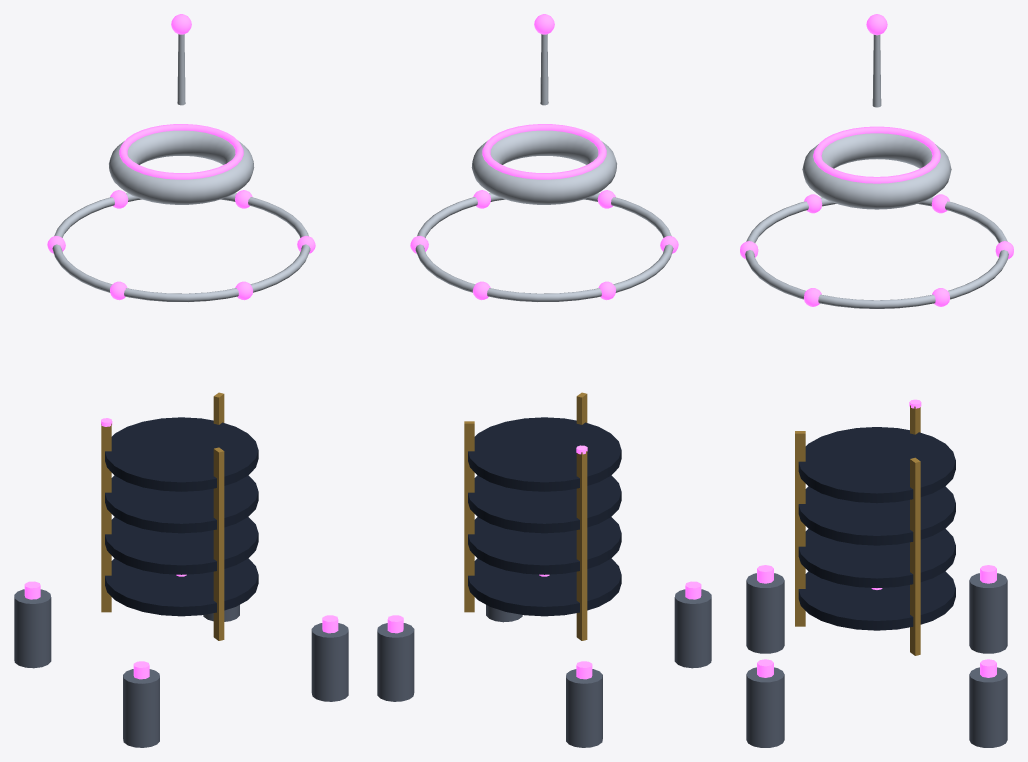
Rendered from tower_arc_damage_s7.glb.
The picture shows the model from 3 angles, left to right: view 1: azimuth 30°, elevation 25°; view 2: azimuth 150°, elevation 25°; view 3: azimuth 270°, elevation 25°; orthographic projection. The views are drawn at different scales.
Parts seen in each view (by area): view 1: arc_insulator_sleeve3, arc_toroid_b, arc_insulator_sleeve2, arc_insulator_sleeve1, arc_insulator_sleeve0, arc_electrode_ring, arc_shock_cap0, arc_shock_cap2, arc_shock_cap3, arc_ground_strap2, arc_toroid_b_glow, arc_ground_strap0 (+1 smaller); view 2: arc_insulator_sleeve3, arc_toroid_b, arc_insulator_sleeve2, arc_insulator_sleeve1, arc_insulator_sleeve0, arc_electrode_ring, arc_shock_cap3, arc_shock_cap1, arc_shock_cap0, arc_ground_strap0, arc_toroid_b_glow, arc_ground_strap1 (+1 smaller); view 3: arc_insulator_sleeve3, arc_toroid_b, arc_insulator_sleeve2, arc_insulator_sleeve1, arc_insulator_sleeve0, arc_electrode_ring, arc_shock_cap0, arc_shock_cap3, arc_shock_cap1, arc_shock_cap2, arc_toroid_b_glow, arc_ground_strap1 (+2 smaller).
Boxes of the visible parts, <box> form: arc_insulator_sleeve3: <box>105,417,258,491</box>; arc_toroid_b: <box>109,130,254,204</box>; arc_insulator_sleeve2: <box>105,475,258,533</box>; arc_insulator_sleeve1: <box>105,517,258,574</box>; arc_insulator_sleeve0: <box>105,558,258,616</box>; arc_electrode_ring: <box>52,193,310,301</box>; arc_shock_cap0: <box>14,589,51,668</box>; arc_shock_cap2: <box>311,623,348,701</box>; arc_shock_cap3: <box>123,669,159,747</box>; arc_ground_strap2: <box>213,447,224,640</box>; arc_toroid_b_glow: <box>119,124,243,179</box>; arc_ground_strap0: <box>101,423,111,612</box>; arc_insulator_sleeve3: <box>468,417,621,491</box>; arc_toroid_b: <box>471,130,616,204</box>; arc_insulator_sleeve2: <box>468,475,621,533</box>; arc_insulator_sleeve1: <box>468,517,621,574</box>; arc_insulator_sleeve0: <box>468,558,621,616</box>; arc_electrode_ring: <box>415,193,673,301</box>; arc_shock_cap3: <box>674,589,711,668</box>; arc_shock_cap1: <box>377,623,414,701</box>; arc_shock_cap0: <box>566,669,602,747</box>; arc_ground_strap0: <box>576,451,587,640</box>; arc_toroid_b_glow: <box>482,124,606,179</box>; arc_ground_strap1: <box>464,421,474,612</box>; arc_insulator_sleeve3: <box>798,427,955,503</box>; arc_toroid_b: <box>802,133,951,209</box>; arc_insulator_sleeve2: <box>798,486,955,545</box>; arc_insulator_sleeve1: <box>798,529,955,587</box>; arc_insulator_sleeve0: <box>798,571,955,630</box>; arc_electrode_ring: <box>745,197,1008,308</box>; arc_shock_cap0: <box>969,573,1007,653</box>; arc_shock_cap3: <box>746,573,784,653</box>; arc_shock_cap1: <box>969,667,1007,747</box>; arc_shock_cap2: <box>746,667,784,747</box>; arc_toroid_b_glow: <box>813,126,940,183</box>; arc_ground_strap1: <box>910,457,920,655</box>.
Bounding box in the file's own units: 1.24 × 3.51 × 1.29.
